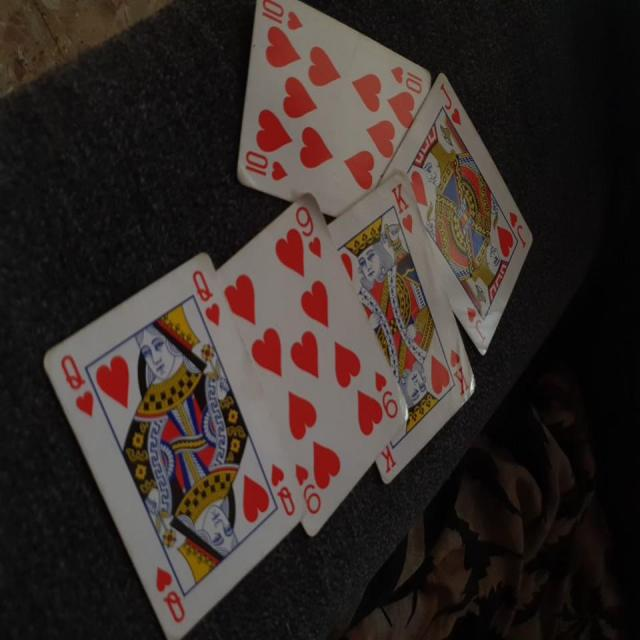10 Hearts: (225, 1, 437, 227)
9 Hearts: (218, 194, 412, 556)
J Hearts: (376, 68, 534, 360)
K Hearts: (324, 167, 478, 491)
Q Hearts: (41, 254, 301, 638)
